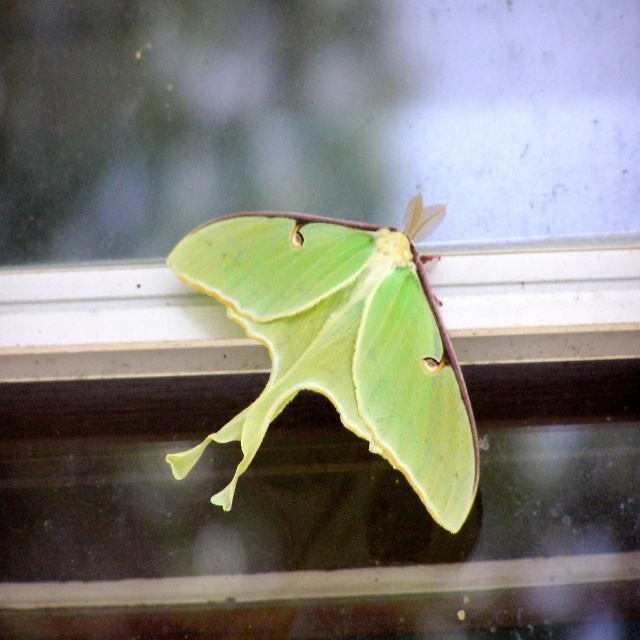Butterfly: (184, 165, 480, 531)
